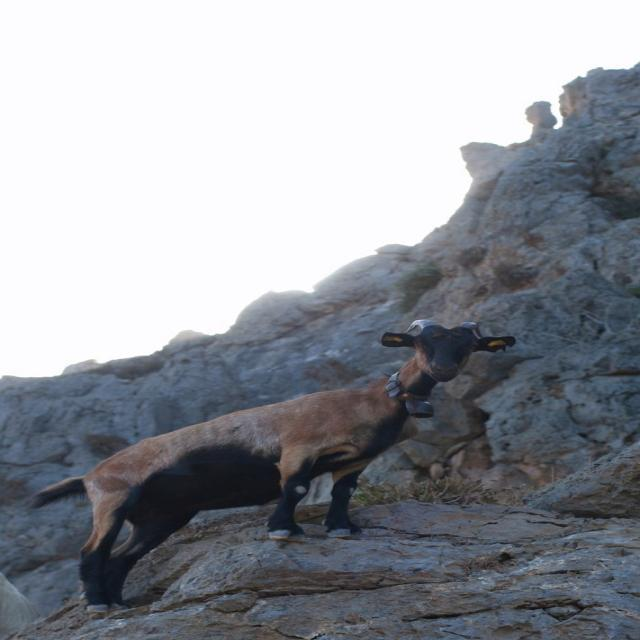Goat: (26, 318, 516, 613)
